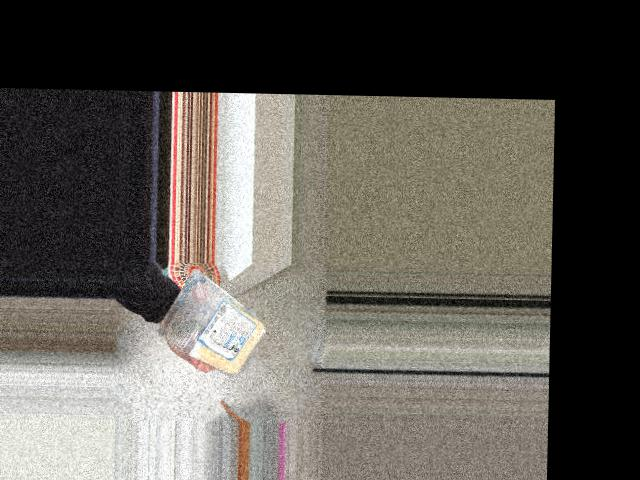cheese: (170, 278, 271, 363)
